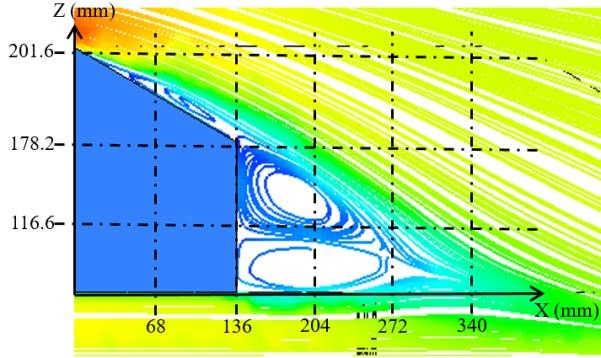vortox: (239, 139, 371, 240)
